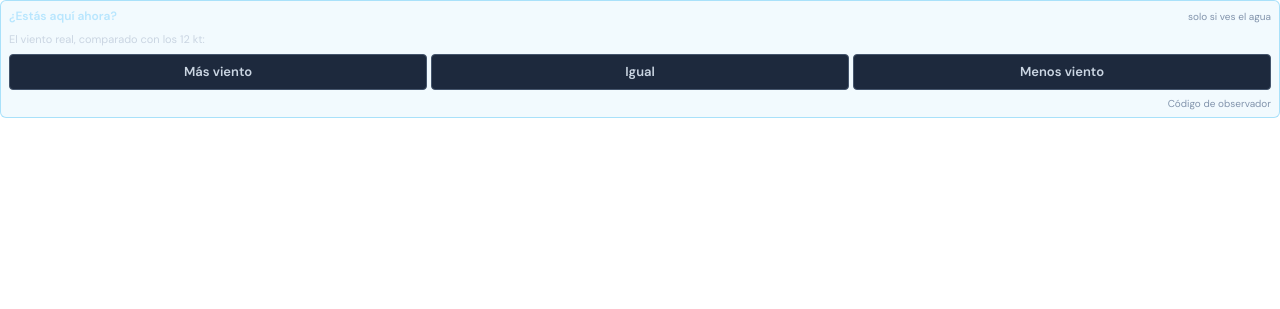
Test: SpotReportBox › asks about the wind straight away and shows the rest only after an answer
Expected: the text "El viento real, comparado con los 12 kt:" is shown, x1=9 y1=32 x2=205 y2=46
Expected: the text "Enviar" is not shown
Click the button "Igual". click: x=640, y=72
box: x1=431 y1=54 x2=849 y2=90
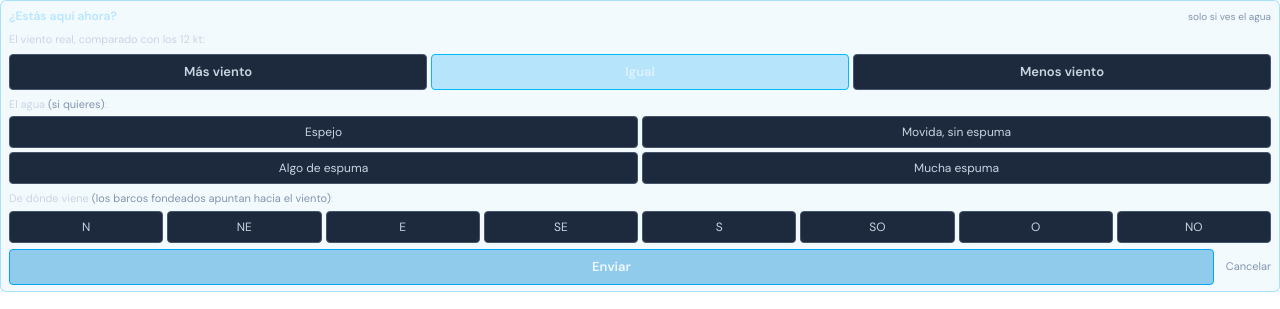
Expected: the button "Espejo" is shown, x1=9 y1=116 x2=638 y2=148
Expected: the button "Enviar" is enabled, x1=9 y1=248 x2=1214 y2=284
Click the button "Cancelar". click: x=1248, y=267
box: x1=1226 y1=258 x2=1271 y2=275
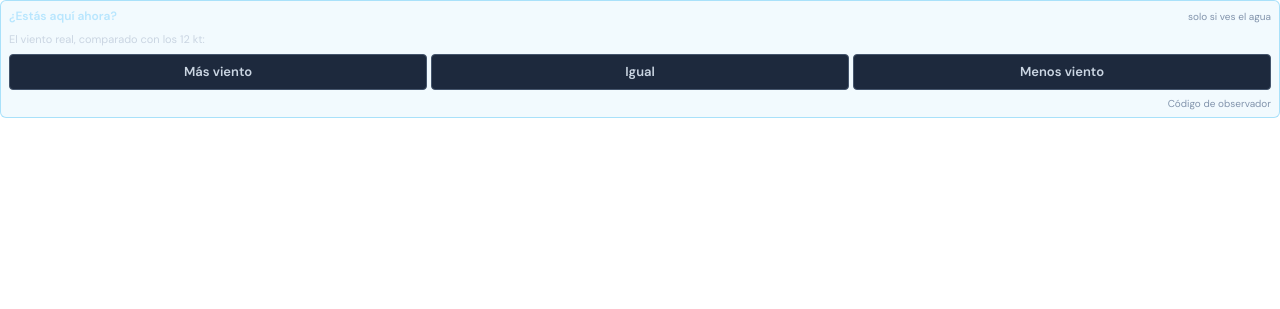
Expected: the button "Enviar" is gone
